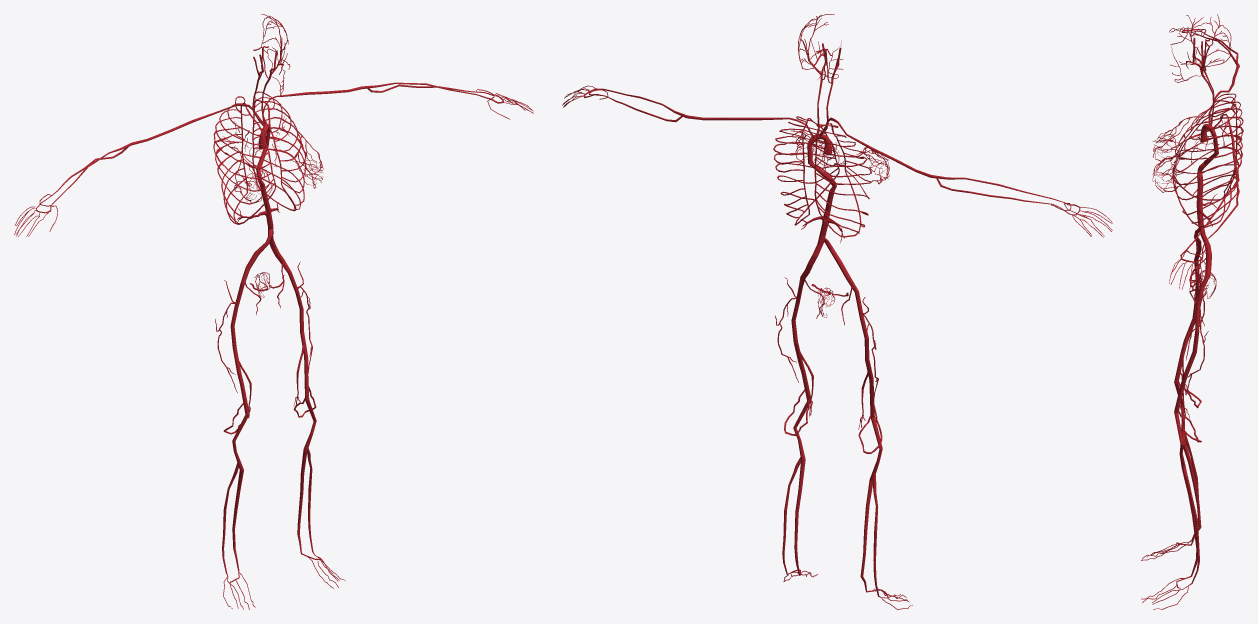
The model's file is 女性_循环系统_动脉.fbx.
The picture shows the model from 3 angles, left to right: view 1: azimuth 30°, elevation 25°; view 2: azimuth 150°, elevation 25°; view 3: azimuth 270°, elevation 25°; orthographic projection. The views are drawn at different scales.
Parts seen in each view (by area): view 1: 女性_循环系统_动脉; view 2: 女性_循环系统_动脉; view 3: 女性_循环系统_动脉.
Part boxes in pixels (x1,y1,x2,y2): 女性_循环系统_动脉: (14,14,533,609); 女性_循环系统_动脉: (562,14,1112,609); 女性_循环系统_动脉: (1141,14,1243,609).
Size of the model in its own units: 171 by 177 by 28.93.
